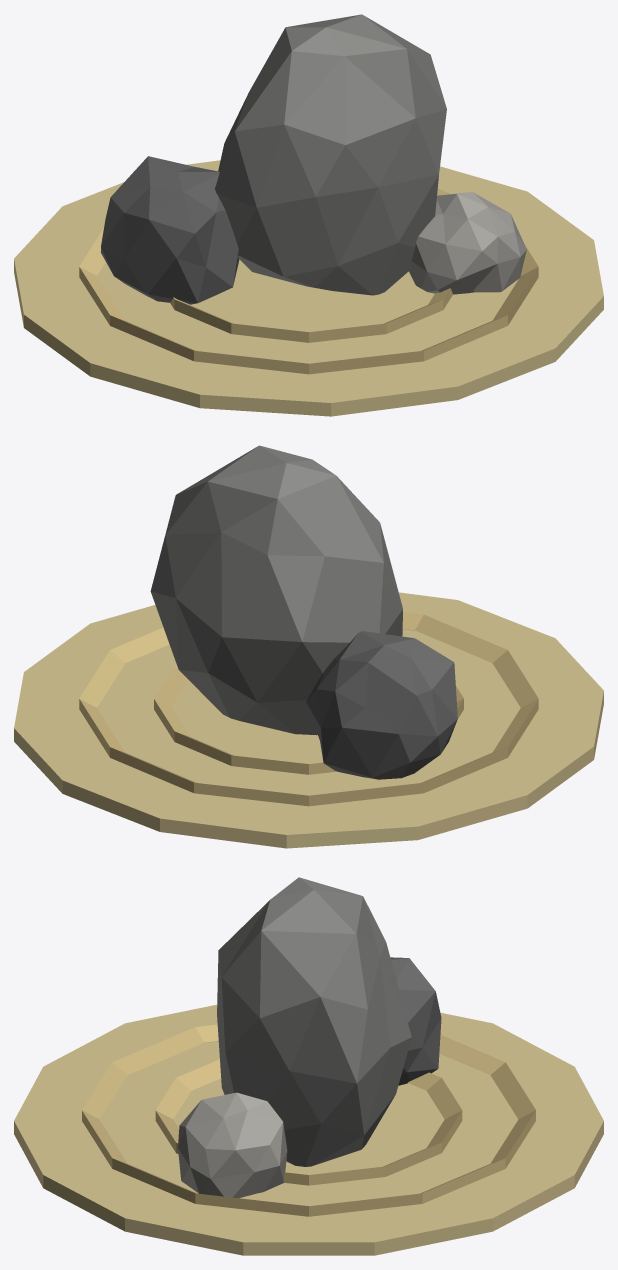
Rendered from Scatter_ZenRock.fbx.
The picture shows the model from 3 angles, top to bottom: view 1: azimuth 30°, elevation 25°; view 2: azimuth 150°, elevation 25°; view 3: azimuth 270°, elevation 25°; orthographic projection.
Visible parts, largest first — view 1: ZenRock; view 2: ZenRock; view 3: ZenRock.
Boxes of the visible parts, x1,y1,x2,y2 form: ZenRock: [14, 14, 603, 416]; ZenRock: [14, 445, 603, 848]; ZenRock: [14, 877, 603, 1255].
Bounding box in the file's own units: 7.8 × 3.8 × 8.
